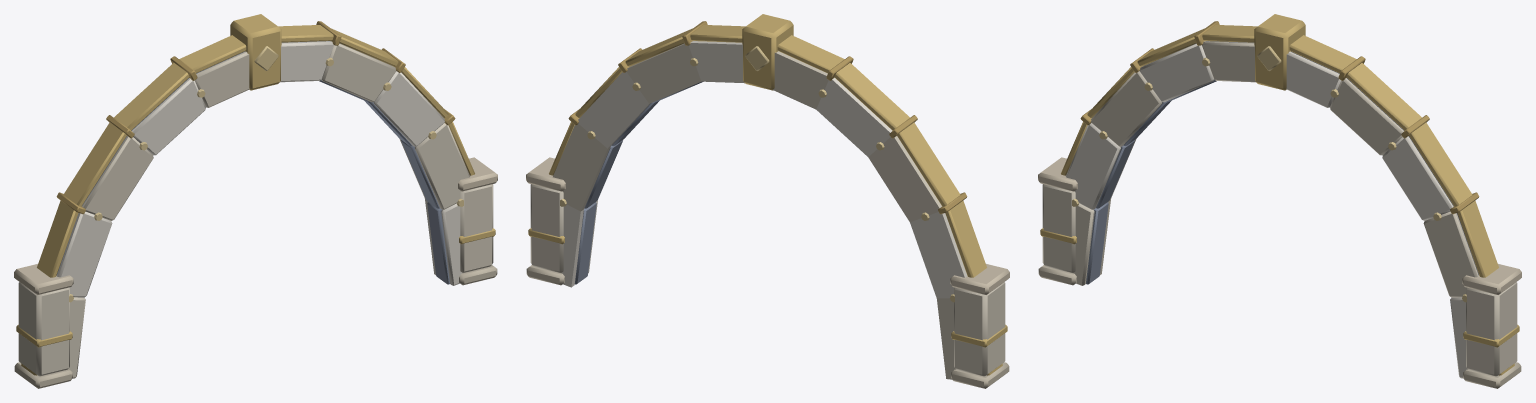
File: vault_portal.glb
3 views of the same model, side by side, from view 1: azimuth 30°, elevation 25°; view 2: azimuth 150°, elevation 25°; view 3: azimuth 330°, elevation 25° (orthographic).
Parts seen in each view (by area): view 1: vault_portal; view 2: vault_portal; view 3: vault_portal.
Boxes of the visible parts, bbox=[...] form: vault_portal: bbox=[14, 14, 497, 388]; vault_portal: bbox=[526, 14, 1009, 388]; vault_portal: bbox=[1038, 14, 1521, 388].
Bounding box in the file's own units: 62.4 × 39.02 × 5.6.
